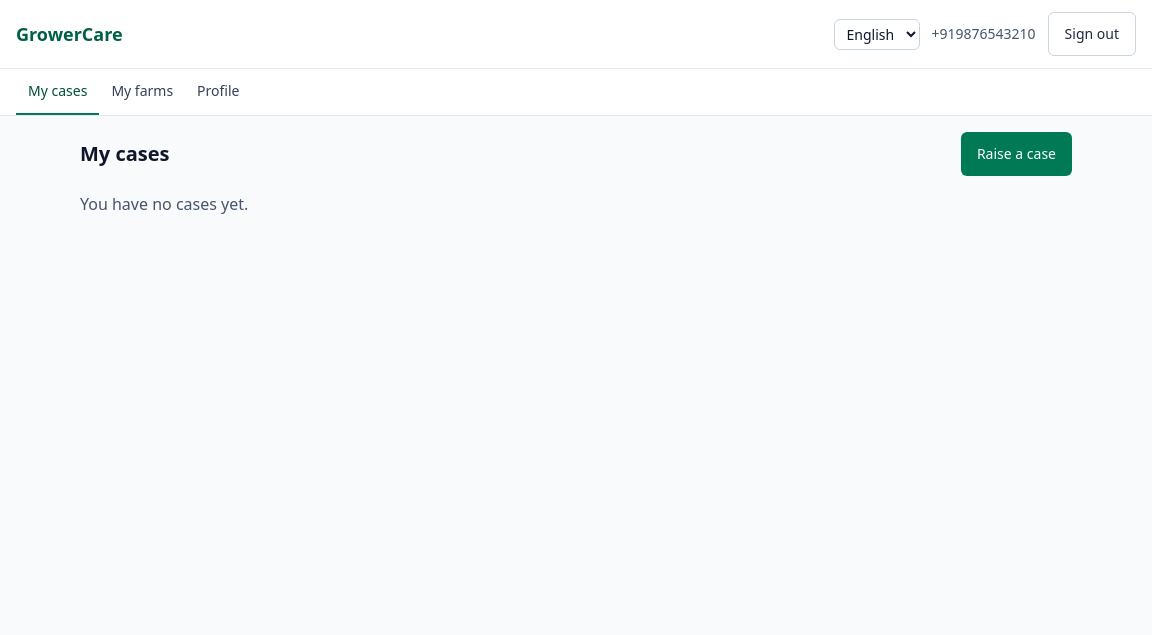
Test: SPEC-FE-02 R106 raise a case (PRD J4) › My cases offers "Raise a case"
The width and height of the screenshot is (1152, 635).
Click the link "Raise a case" at (1016, 154), box [961,132,1072,176]
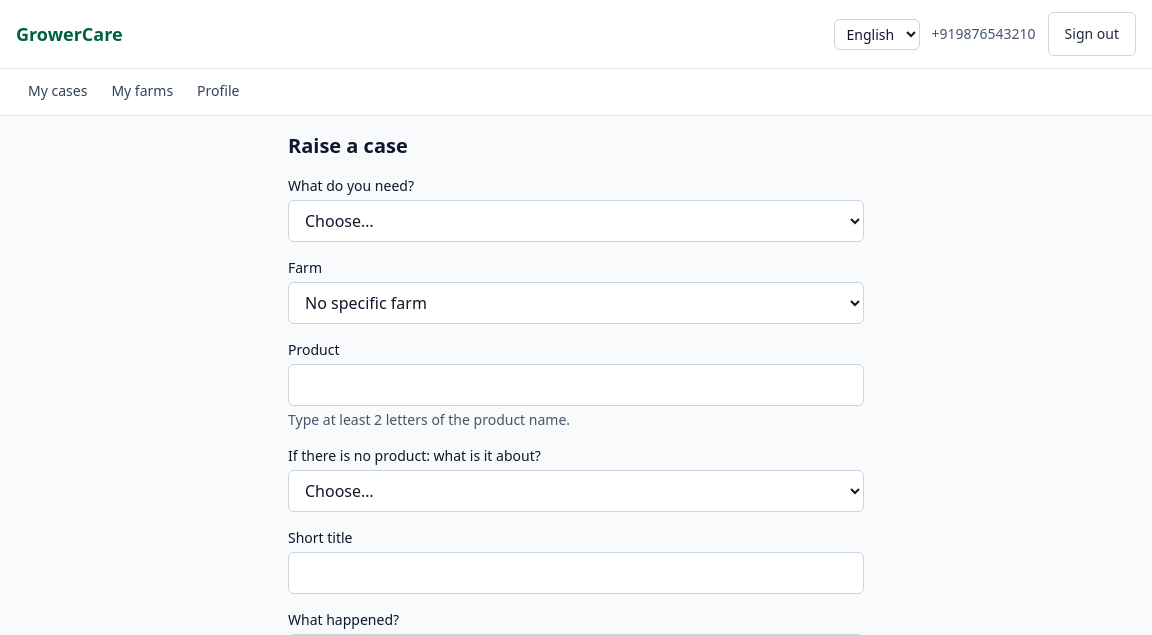
Now the heading "Raise a case" is shown, box [288,132,408,159]
